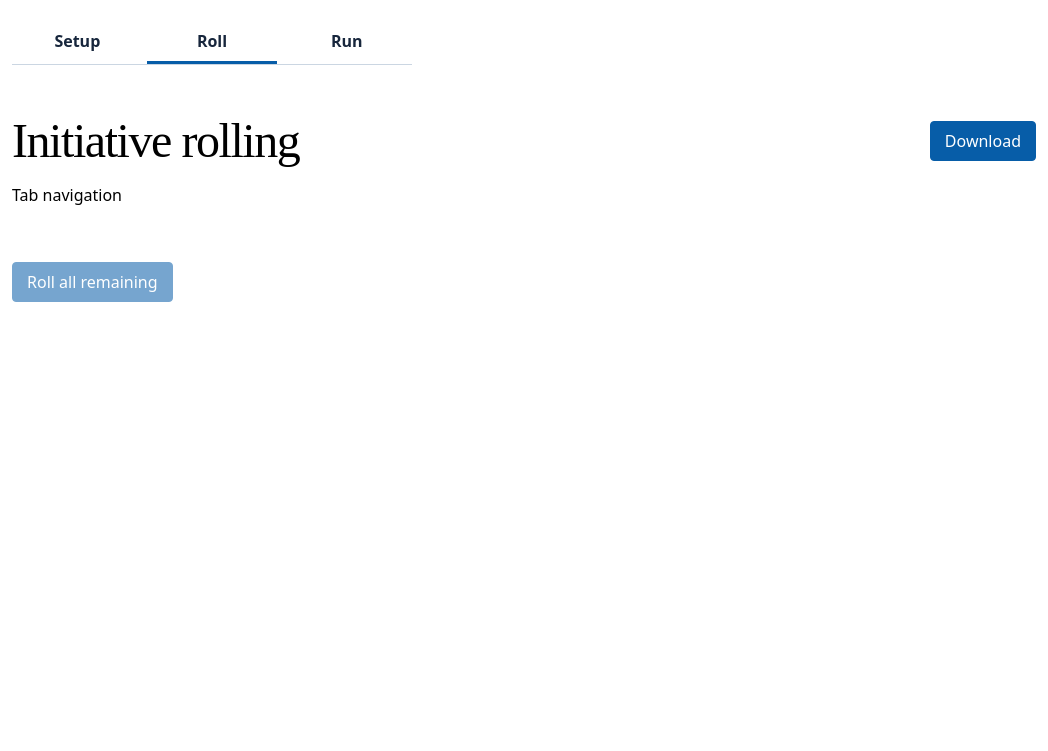
it: challenge workflow tabs › removes the query string when returning to Setup without other parameters
This screenshot has width=1048, height=751.
Expected: the heading "Initiative rolling" is shown, x1=12 y1=114 x2=299 y2=167
Click the tab "Setup": coordinates (77, 42) x1=12 y1=20 x2=143 y2=64
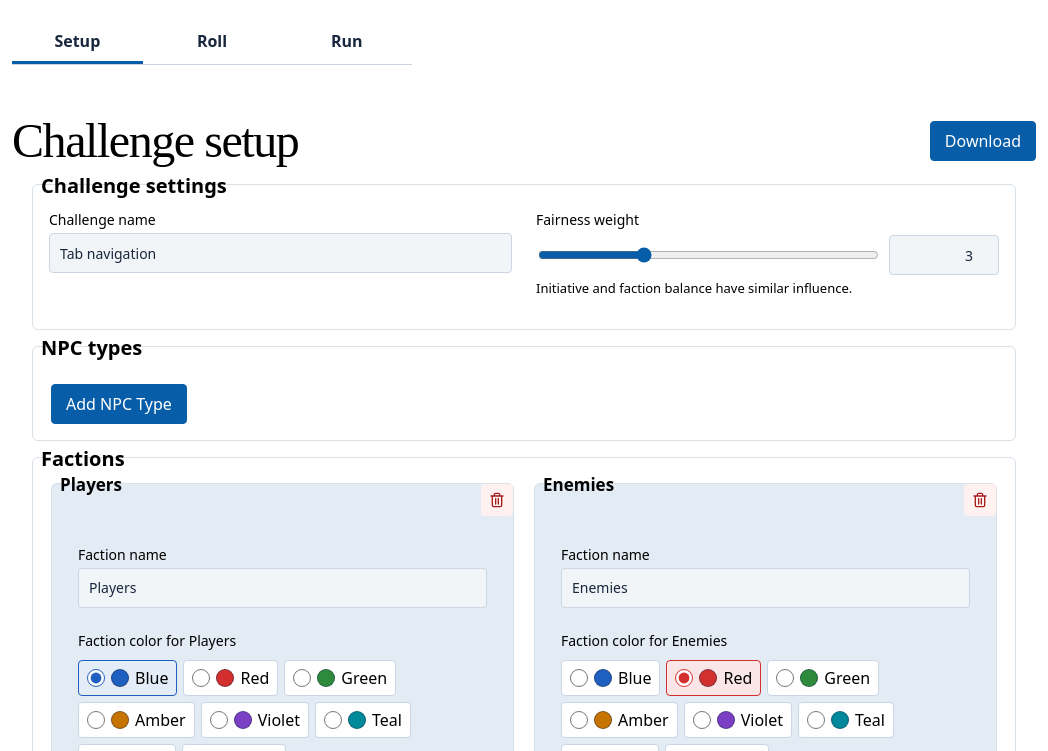
Result: the heading "Challenge setup" is shown at x1=12 y1=114 x2=298 y2=167
